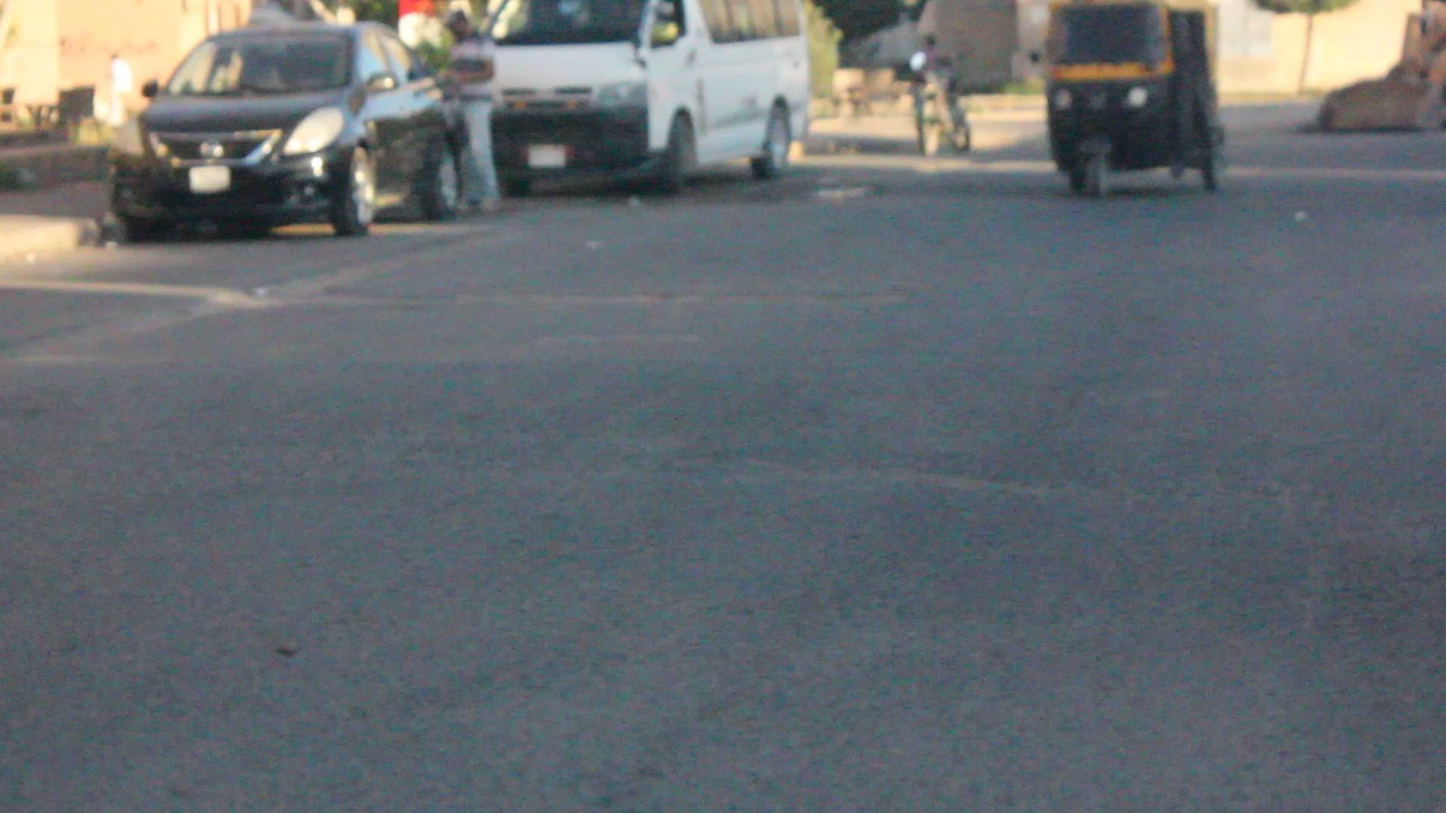Bump: (62, 459, 1446, 691)
